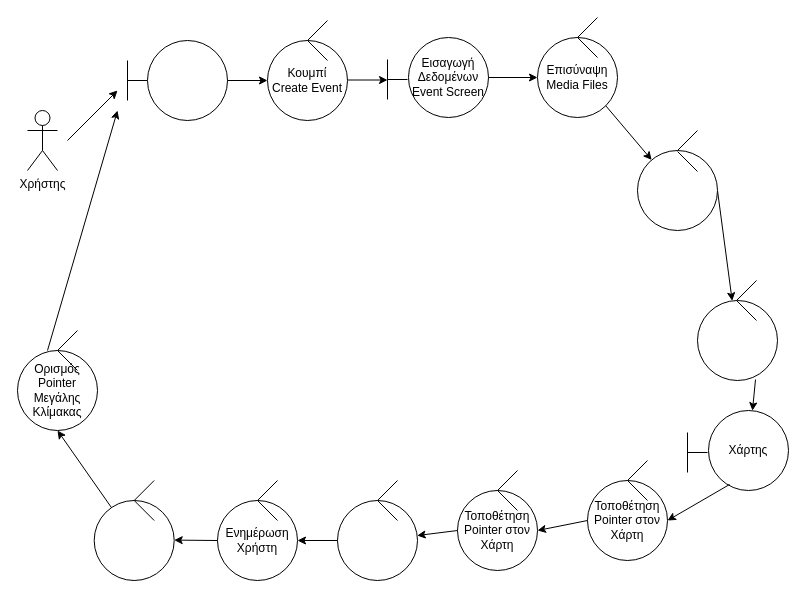
This 806x598 diagram has some shape labels left out. Here are the shapes that lost their labels. From the top down, the centre of each, then its label:
At [187,80]: "Κεντρική Οθόνη".
At [677,190]: "Επιβεβαίωση".
At [737,340]: "Έλεγχος Πληροφοριών".
At [133,540]: "Εισαγωγή Event στο My Events".
At [377,540]: "Επεξεργασία Δεδομένων & Εισαγωγή Event στον Χάρτη".
